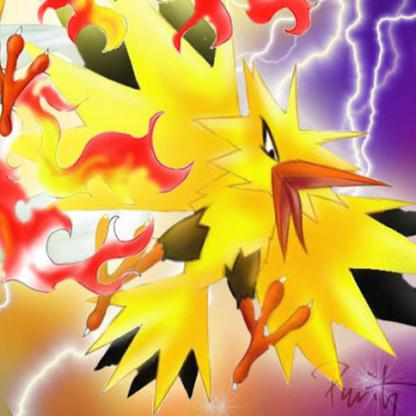Zapdos: (4, 34, 416, 399)
